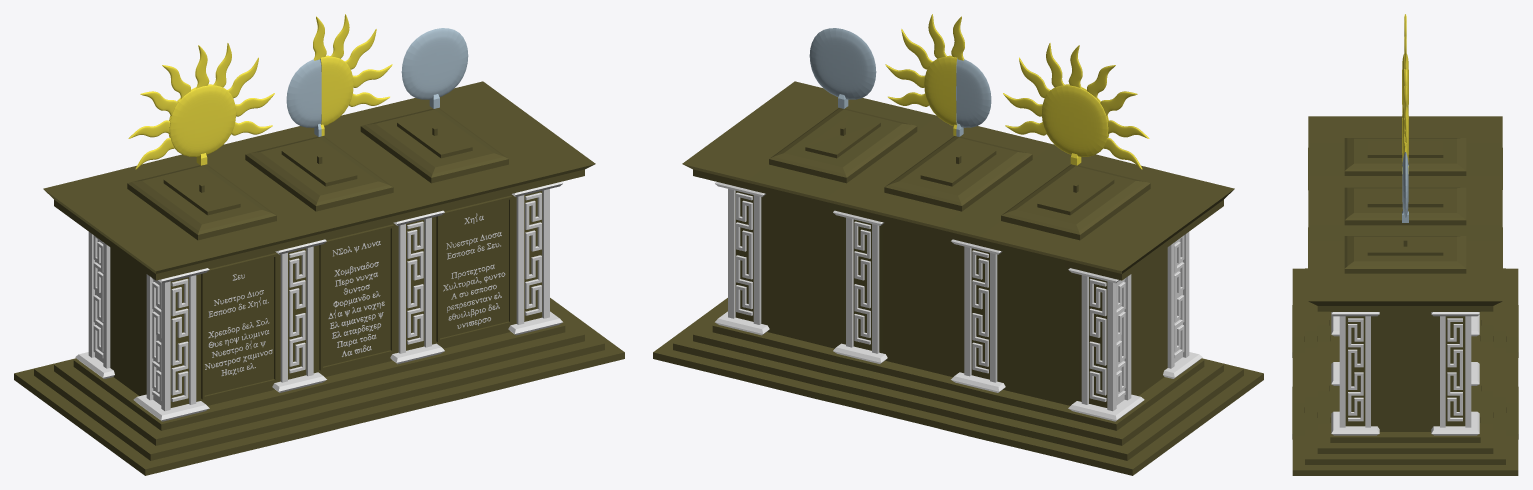
Rendered from Altar.fbx.
3 views of the same model, side by side, from view 1: azimuth 30°, elevation 25°; view 2: azimuth 150°, elevation 25°; view 3: azimuth 270°, elevation 25° (orthographic). The views are drawn at different scales.
Parts seen in each view (by area): view 1: Cube.001, Cube.002, Cube.004, Plane.002, Plane.001, Cube.006, Text.001, Cube.005, Cube.003, Text.002, Text; view 2: Cube.001, Cube.002, Cube.004, Plane.002, Plane.001, Cube.006, Cube.003, Cube.005; view 3: Cube.001, Cube.002, Cube.003, Cube.005, Cube.006, Plane.002, Cube.004, Plane.001.
Part boxes in pixels (<box>): Cube.001: <box>14,81,624,475</box>; Cube.002: <box>75,182,562,421</box>; Cube.004: <box>128,43,274,169</box>; Plane.002: <box>286,14,392,136</box>; Plane.001: <box>401,28,468,108</box>; Cube.006: <box>163,171,240,215</box>; Text.001: <box>328,241,384,356</box>; Cube.005: <box>281,143,357,186</box>; Cube.003: <box>397,115,472,158</box>; Text.002: <box>443,213,505,328</box>; Text: <box>204,274,272,375</box>; Cube.001: <box>653,81,1263,475</box>; Cube.002: <box>715,182,1202,421</box>; Cube.004: <box>1003,43,1149,169</box>; Plane.002: <box>885,14,991,136</box>; Plane.001: <box>809,28,876,108</box>; Cube.006: <box>1037,171,1114,215</box>; Cube.003: <box>805,115,880,158</box>; Cube.005: <box>920,143,996,186</box>; Cube.001: <box>1292,116,1518,475</box>; Cube.002: <box>1331,312,1479,435</box>; Cube.003: <box>1367,239,1443,255</box>; Cube.005: <box>1367,190,1443,207</box>; Cube.006: <box>1367,141,1443,157</box>; Plane.002: <box>1402,69,1408,173</box>; Cube.004: <box>1402,14,1408,120</box>; Plane.001: <box>1402,151,1408,222</box>.
Bounding box in the file's own units: 760 × 536 × 361.
